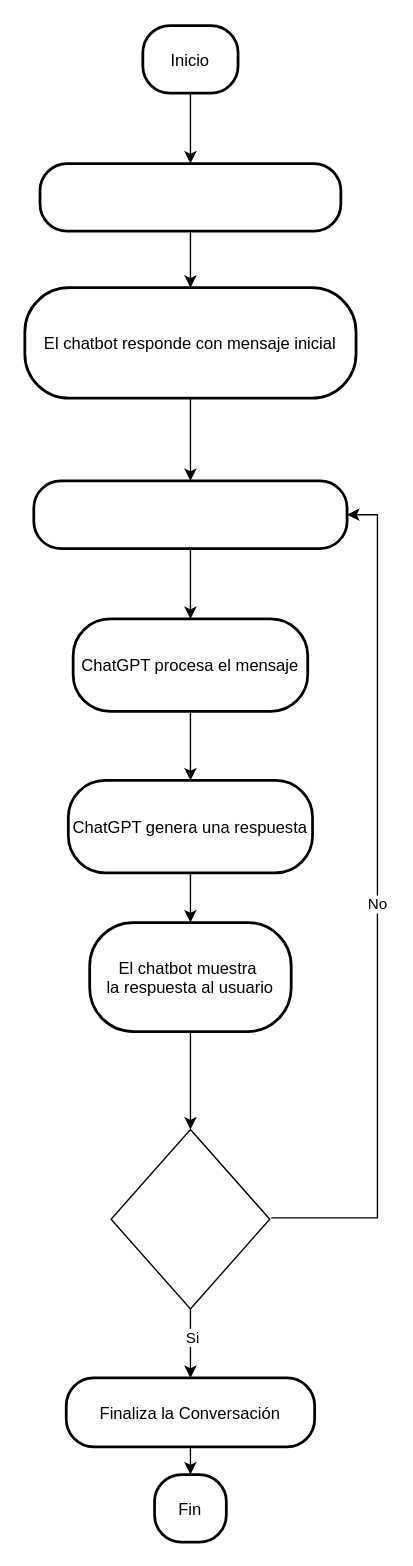
The diagram is 413 pixels wide and 1566 high, and some of its shapes have lost their labels. The centre of each missing label's shape, as x and y in pixels:
Usuario escribe un mensaje: pixel 190 514
Usuario ingresa al chatbot: pixel 190 196
¿La respuesta resolvió el problema?: pixel 190 1218
